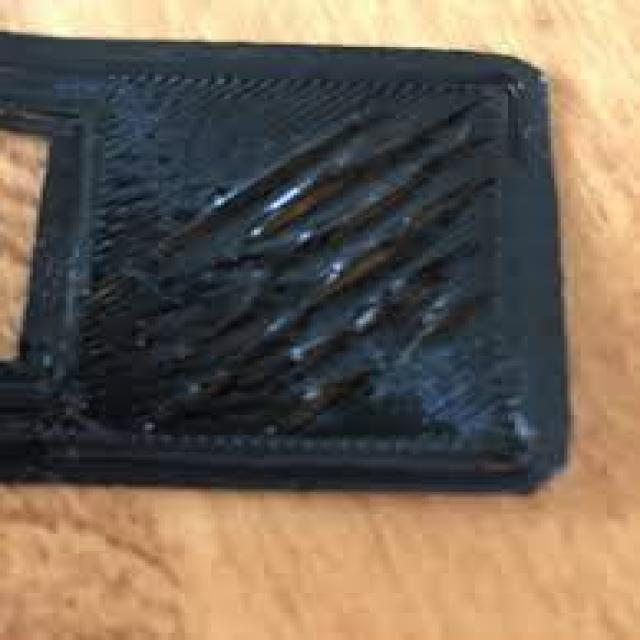spaghetti: (73, 86, 530, 446)
